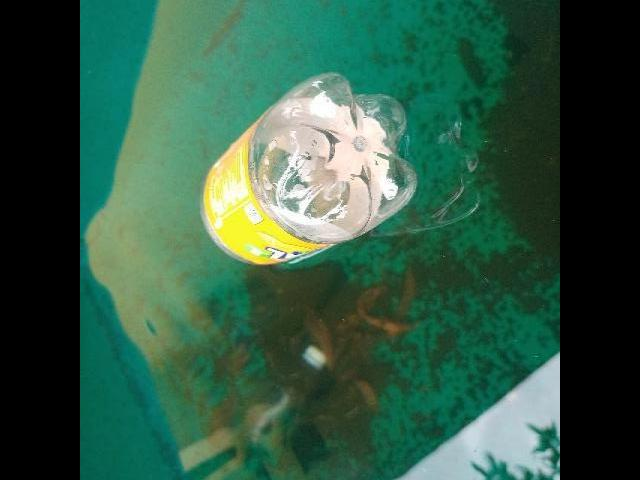Bottle: (194, 63, 424, 282)
